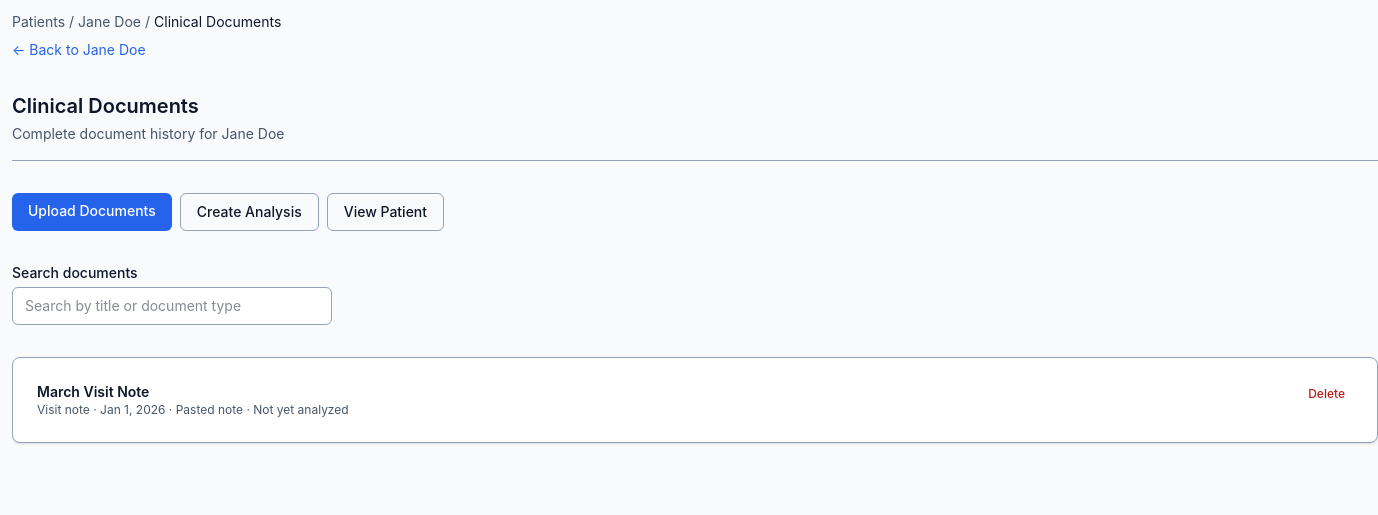
PatientDocumentsPage › deletes a document
expect the heading "March Visit Note" is shown: met, box x1=37 y1=383 x2=149 y2=400
Click the button with aria-label "Delete March Visit Note" at (1327, 394), box x1=1300 y1=382 x2=1353 y2=406
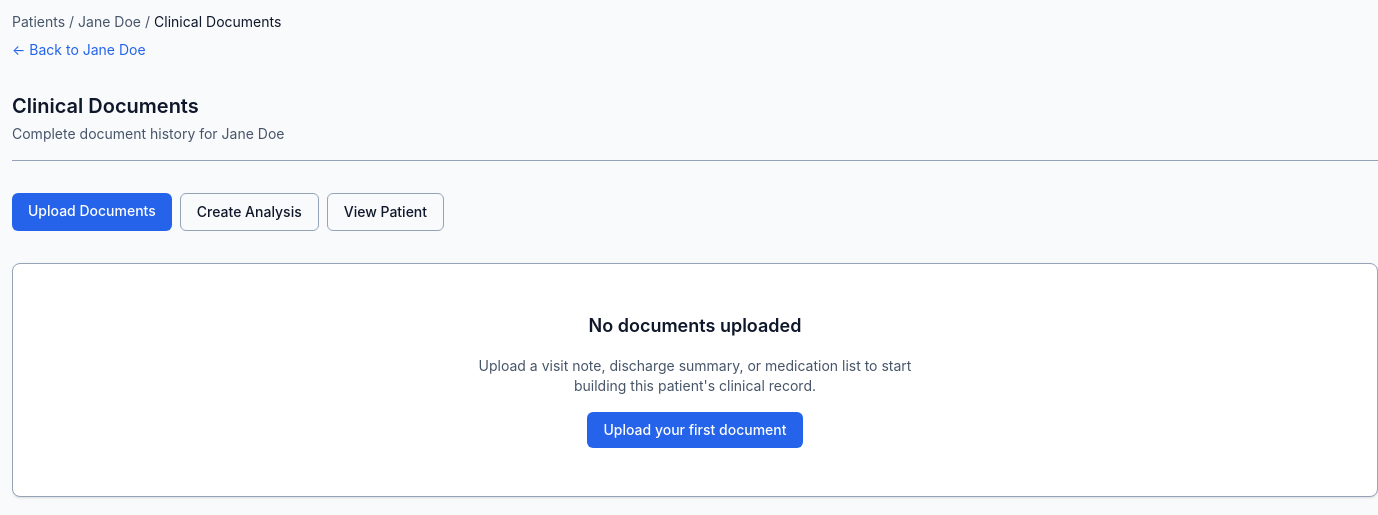
expect the button "March Visit Note" is gone: met
